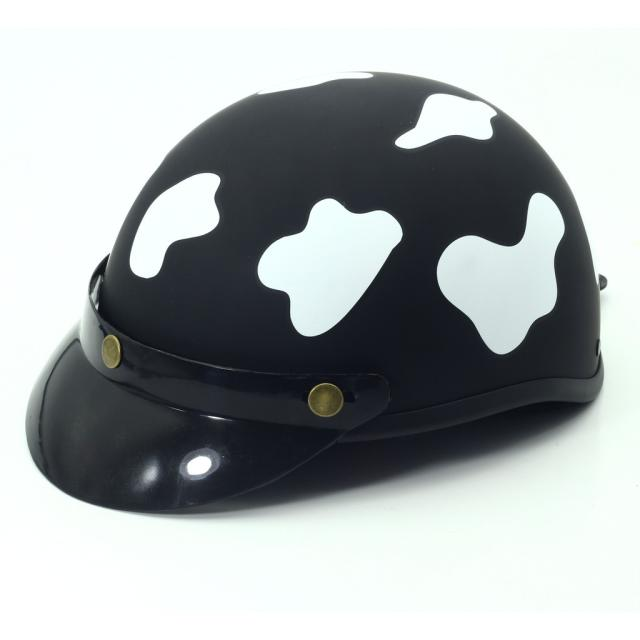Helmet: (14, 52, 621, 521)
